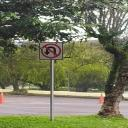NoVirarU: (36, 40, 68, 61)
